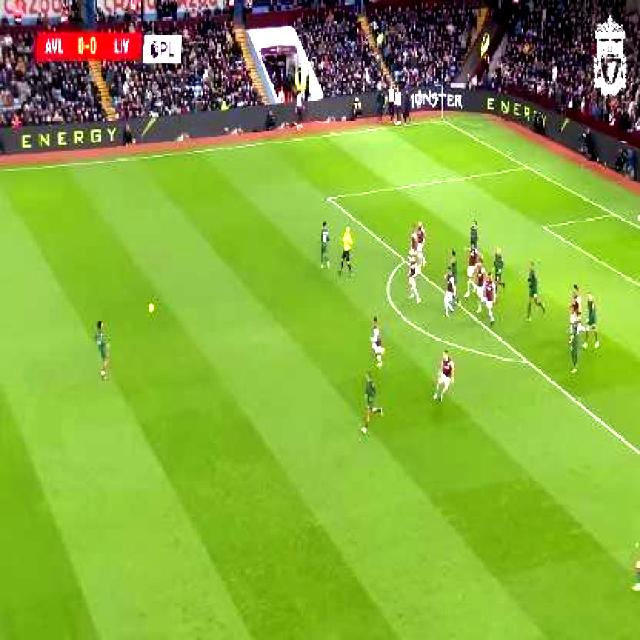bigarea_top_inner: (322, 188, 336, 206)
bigarea_top_outter: (520, 158, 534, 174)
bottom_arc_area_intersection: (518, 349, 536, 371)
corner: (432, 112, 448, 125)
smallarea_top_inner: (535, 215, 551, 234)
smallarea_top_outter: (606, 204, 620, 222)
top_arc_area_intersection: (397, 250, 411, 268)
